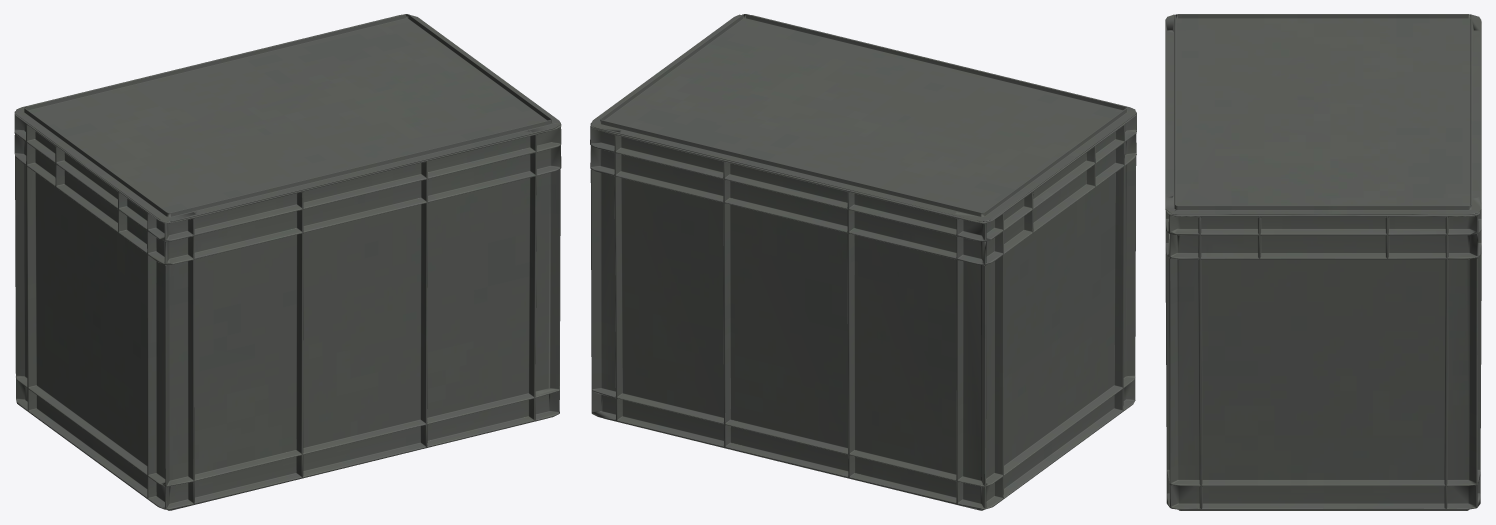
The model's file is box-gray.glb.
The picture shows the model from 3 angles, left to right: view 1: azimuth 30°, elevation 25°; view 2: azimuth 150°, elevation 25°; view 3: azimuth 270°, elevation 25°; orthographic projection. The views are drawn at different scales.
Visible parts, largest first — view 1: Plastic_Gray_A; view 2: Plastic_Gray_A; view 3: Plastic_Gray_A.
Boxes of the visible parts, x1=… form: Plastic_Gray_A: x1=14, y1=14, x2=561, y2=510; Plastic_Gray_A: x1=590, y1=14, x2=1136, y2=510; Plastic_Gray_A: x1=1165, y1=14, x2=1481, y2=510.
Bounding box in the file's own units: 0.6 × 0.4277 × 0.4004.
Materials: 1 (1 with a texture image).
